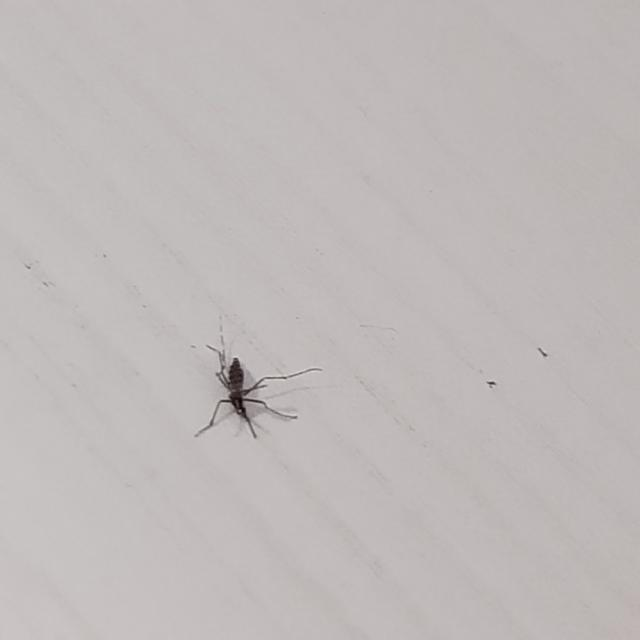albopictus: (185, 309, 318, 449)
